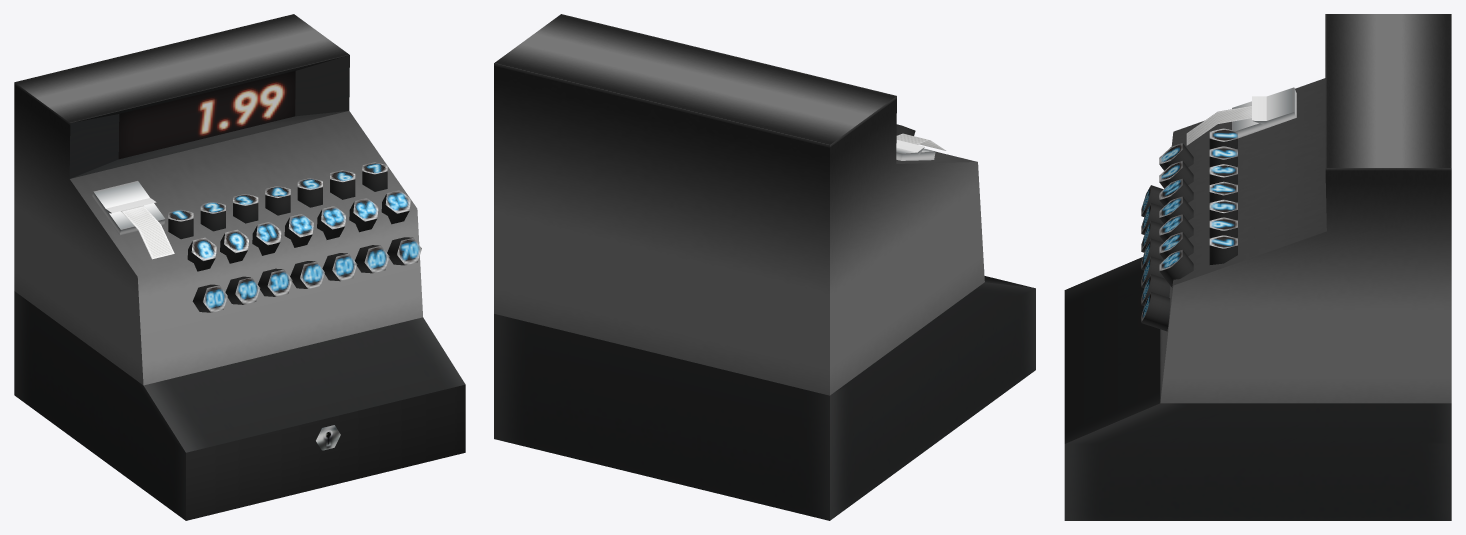
The model's file is Cash_Register_B.FBX.
The picture shows the model from 3 angles, left to right: view 1: azimuth 30°, elevation 25°; view 2: azimuth 150°, elevation 25°; view 3: azimuth 270°, elevation 25°; orthographic projection. The views are drawn at different scales.
Parts seen in each view (by area): view 1: Cash Register; view 2: Cash Register; view 3: Cash Register.
Boxes of the visible parts, x1,y1,x2,y2 form: Cash Register: (14,14,465,520); Cash Register: (494,14,1035,520); Cash Register: (1064,14,1451,520).
Bounding box in the file's own units: 110 × 117 × 117.
